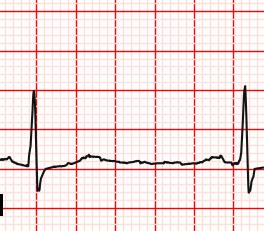ST Depression: (18, 157, 58, 194)
